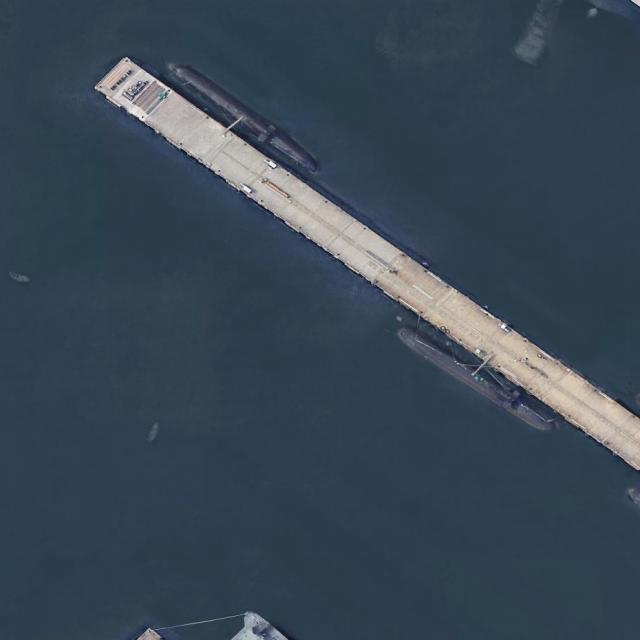Submarine: (160, 55, 323, 178), (394, 321, 562, 437)
